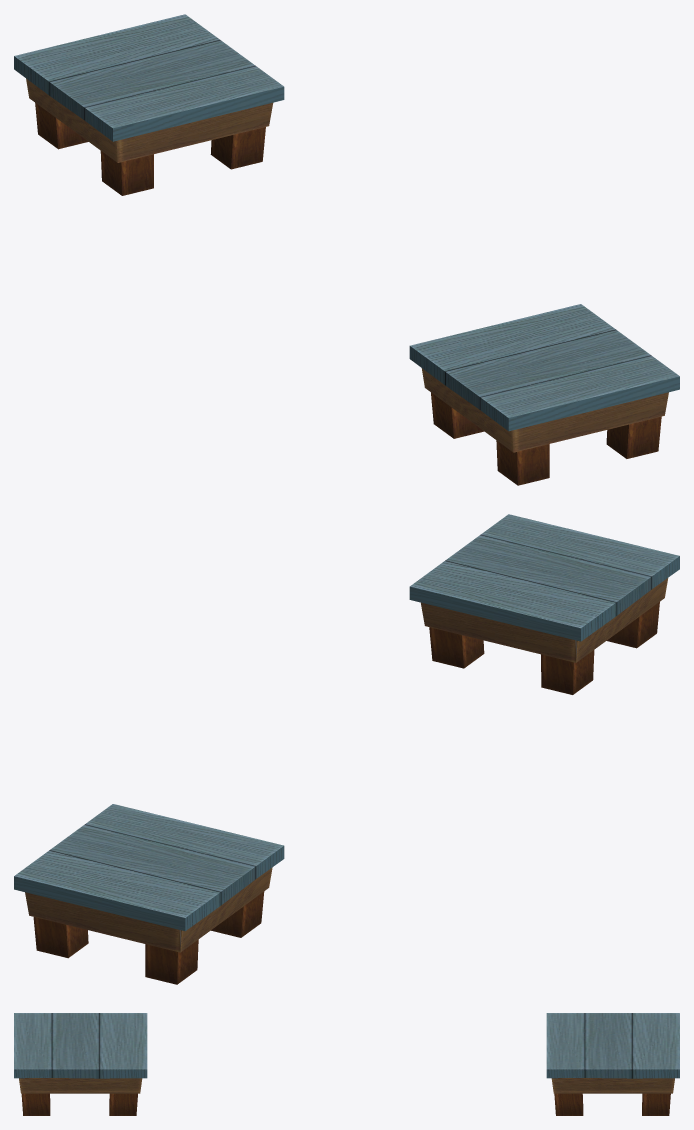
Rendered from Sliding_Stoppers_Right.fbx.
The picture shows the model from 3 angles, top to bottom: view 1: azimuth 30°, elevation 25°; view 2: azimuth 150°, elevation 25°; view 3: azimuth 270°, elevation 25°; orthographic projection. The views are drawn at different scales.
Parts seen in each view (by area): view 1: Worktop (×2); view 2: Worktop (×2); view 3: Worktop (×2).
Part boxes in pixels (<box>): Worktop (×2): <box>14,14,679,485</box>; Worktop (×2): <box>14,514,679,984</box>; Worktop (×2): <box>14,1013,679,1115</box>.
Size of the model in its own units: 1.2 by 0.5124 by 6.
1 material, 1 textured.
